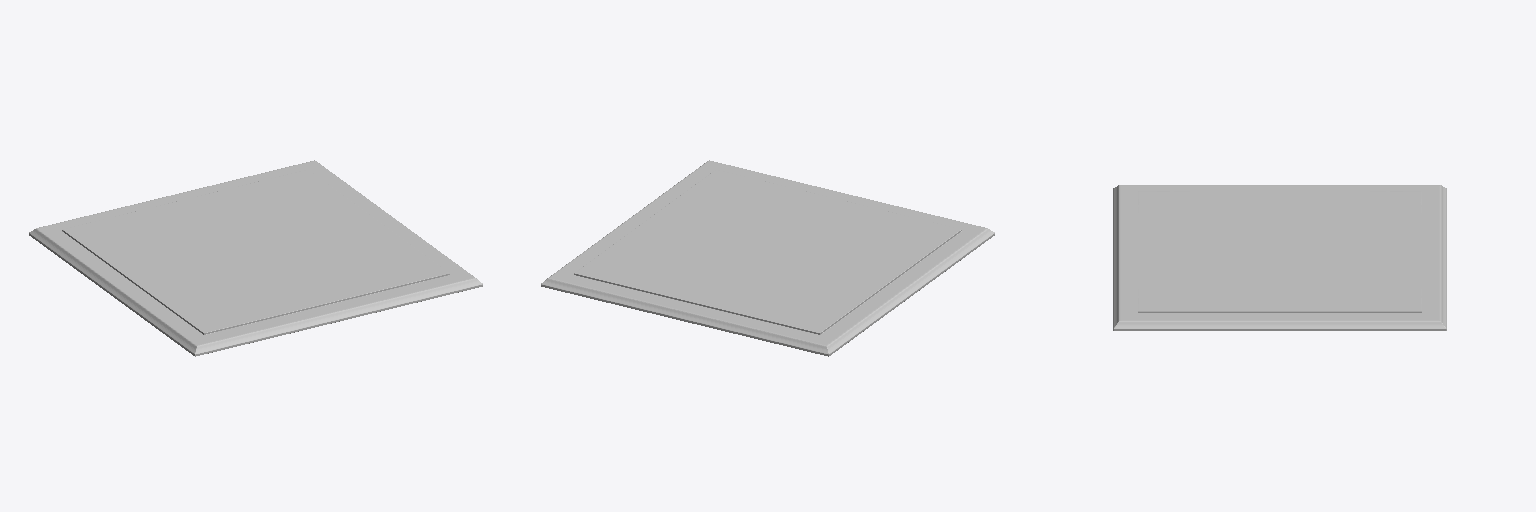
Rendered from 12951_Stone_Chess_Board_v1_L3.obj.
3 views of the same model, side by side, from view 1: azimuth 30°, elevation 25°; view 2: azimuth 150°, elevation 25°; view 3: azimuth 270°, elevation 25° (orthographic).
Visible parts, largest first — view 1: 12951_Stone_Chess_Board_v1_L3; view 2: 12951_Stone_Chess_Board_v1_L3; view 3: 12951_Stone_Chess_Board_v1_L3.
Boxes of the visible parts, x1=… form: 12951_Stone_Chess_Board_v1_L3: x1=29, y1=160, x2=482, y2=356; 12951_Stone_Chess_Board_v1_L3: x1=541, y1=160, x2=994, y2=356; 12951_Stone_Chess_Board_v1_L3: x1=1113, y1=185, x2=1446, y2=330.
Size of the model in its own units: 50.8 by 1.58 by 50.8.